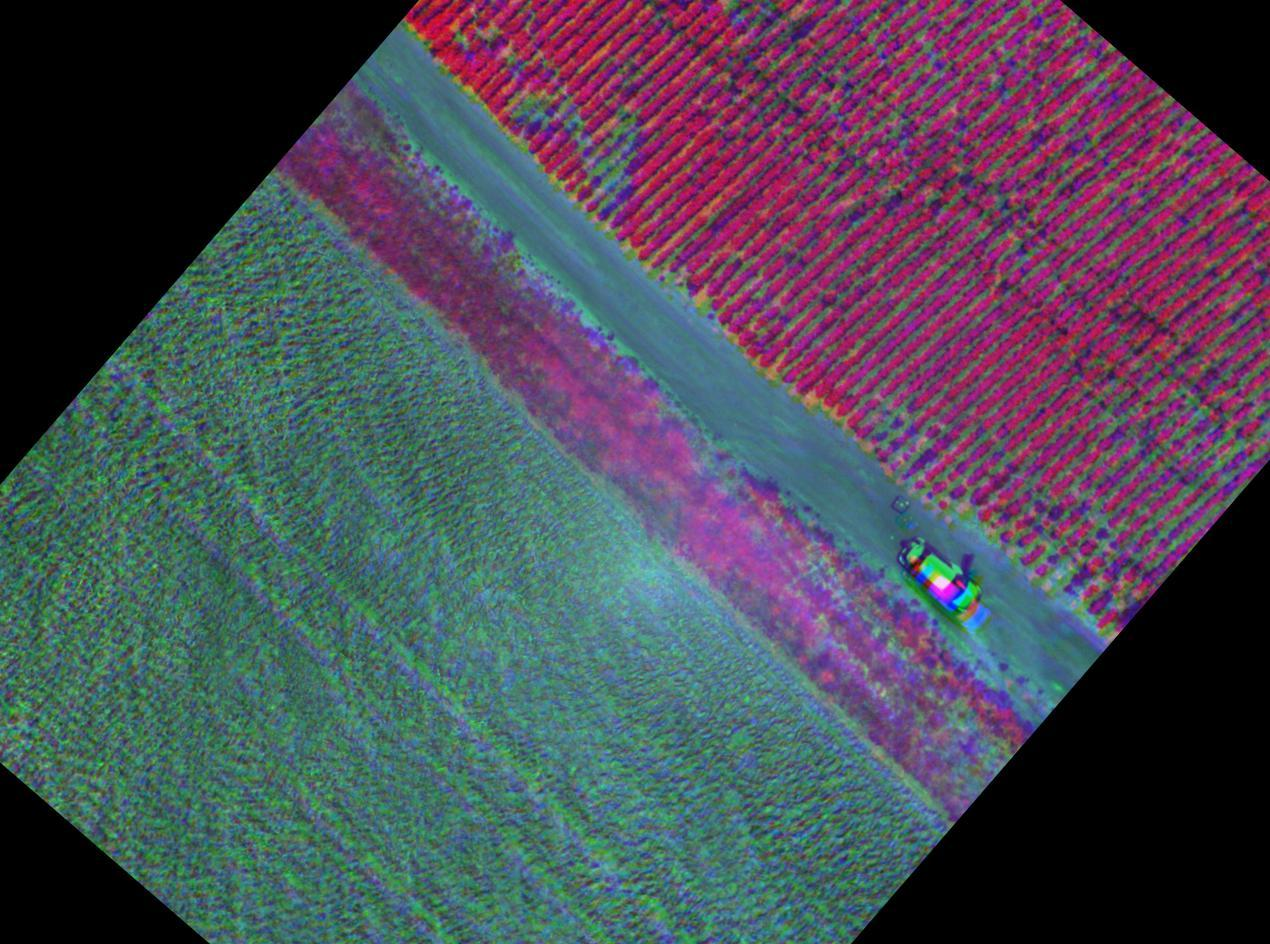dc: (575, 110, 658, 215), (884, 411, 968, 508), (1024, 530, 1099, 599), (497, 82, 575, 129)
